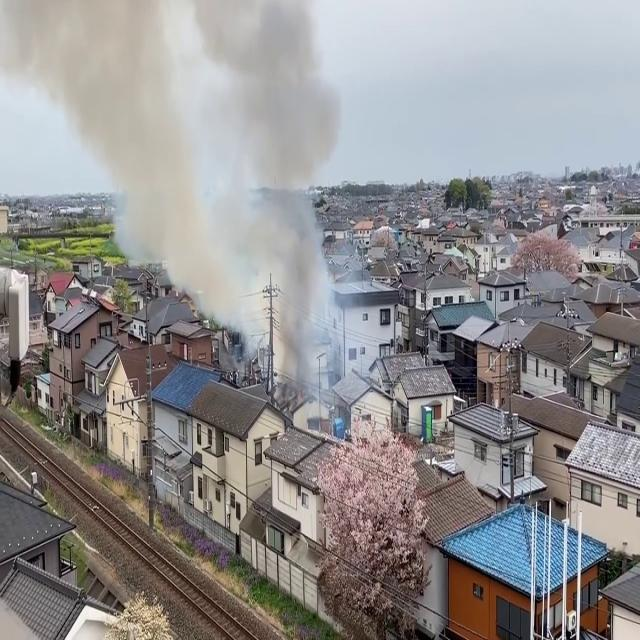Smoke: (54, 0, 338, 251), (240, 0, 348, 398)
